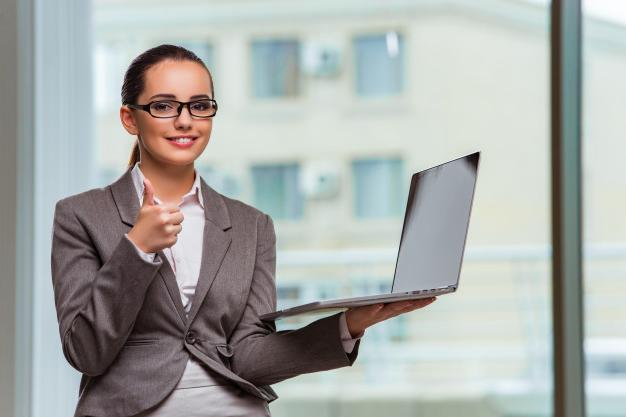thumbsup: (141, 177, 184, 249)
